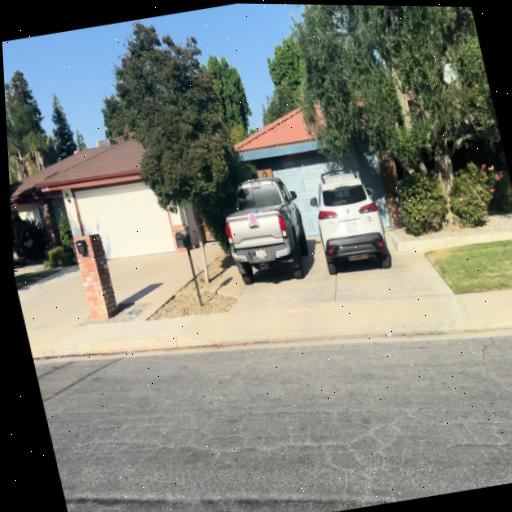bullseye: (248, 212, 257, 226)
